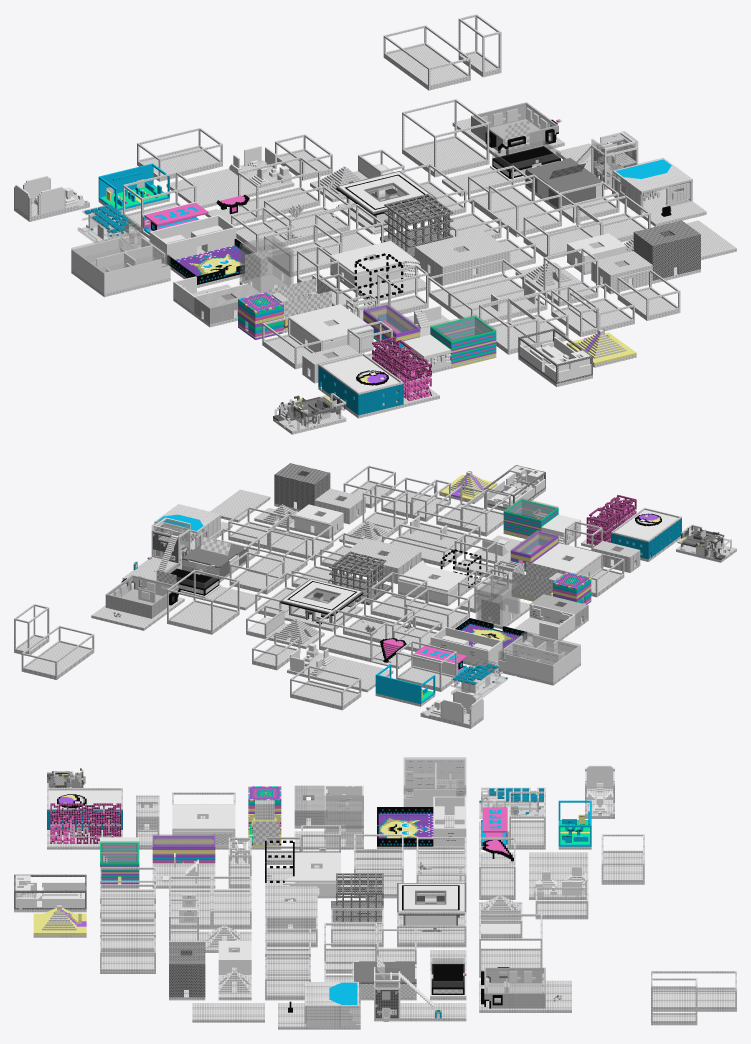
The model's file is Kitties-v1.glb.
The picture shows the model from 3 angles, top to bottom: view 1: azimuth 30°, elevation 25°; view 2: azimuth 150°, elevation 25°; view 3: azimuth 270°, elevation 25°; orthographic projection. The views are drawn at different scales.
Parts seen in each view (by area): view 1: solid-voxels_29.007, solid-voxels_49.007, solid-voxels_71.005, solid-voxels_61.006, solid-voxels_1.008, solid-voxels_59.006, solid-voxels_17.008, solid-voxels_44.007, solid-voxels_45.007, solid-voxels_34.007, solid-voxels_35.007, solid-voxels_72.005 (+69 smaller); view 2: solid-voxels_29.007, solid-voxels_44.007, solid-voxels_49.007, solid-voxels_59.006, solid-voxels_17.008, solid-voxels_1.008, solid-voxels_34.007, solid-voxels_45.007, solid-voxels_48.007, glass-voxels_18.006, solid-voxels_37.007, solid-voxels_72.005 (+70 smaller); view 3: solid-voxels_59.006, solid-voxels_44.007, solid-voxels_56.006, solid-voxels_29.007, solid-voxels_61.006, solid-voxels_72.005, solid-voxels_34.007, solid-voxels_45.007, solid-voxels_62.005, glass-voxels.008, solid-voxels_1.008, solid-voxels_71.005 (+74 smaller).
Part boxes in pixels (box(x1,y1,x2,y2)): solid-voxels_29.007: box(71, 235, 170, 297); solid-voxels_49.007: box(318, 353, 403, 418); solid-voxels_71.005: box(414, 230, 508, 285); solid-voxels_61.006: box(612, 158, 692, 214); solid-voxels_1.008: box(633, 220, 700, 283); solid-voxels_59.006: box(466, 102, 564, 157); solid-voxels_17.008: box(402, 99, 489, 177); solid-voxels_44.007: box(336, 171, 436, 234); solid-voxels_45.007: box(380, 194, 453, 257); solid-voxels_34.007: box(383, 25, 470, 90); solid-voxels_35.007: box(289, 304, 373, 353); solid-voxels_72.005: box(518, 328, 592, 386); solid-voxels_29.007: box(498, 634, 580, 685); solid-voxels_44.007: box(280, 578, 363, 631); solid-voxels_49.007: box(611, 507, 681, 561); solid-voxels_59.006: box(103, 575, 184, 621); solid-voxels_17.008: box(167, 569, 239, 634); solid-voxels_1.008: box(274, 463, 330, 511); solid-voxels_34.007: box(21, 625, 94, 679); solid-voxels_45.007: box(329, 551, 391, 605); solid-voxels_48.007: box(398, 563, 468, 606); glass-voxels_18.006: box(476, 576, 519, 626); solid-voxels_37.007: box(430, 627, 502, 666); solid-voxels_72.005: box(484, 465, 545, 511); solid-voxels_59.006: box(479, 967, 545, 1012); solid-voxels_44.007: box(397, 883, 466, 928); solid-voxels_56.006: box(47, 803, 122, 849); solid-voxels_29.007: box(403, 759, 466, 806); solid-voxels_61.006: box(304, 982, 360, 1029); solid-voxels_72.005: box(14, 874, 86, 912); solid-voxels_34.007: box(651, 971, 736, 1011); solid-voxels_45.007: box(331, 873, 383, 921); solid-voxels_62.005: box(377, 807, 433, 849); glass-voxels.008: box(404, 757, 465, 798); solid-voxels_1.008: box(169, 942, 205, 1000); solid-voxels_71.005: box(265, 886, 317, 928).
Size of the model in its own units: 178 by 14.5 by 219.
4 materials, 2 textured.
